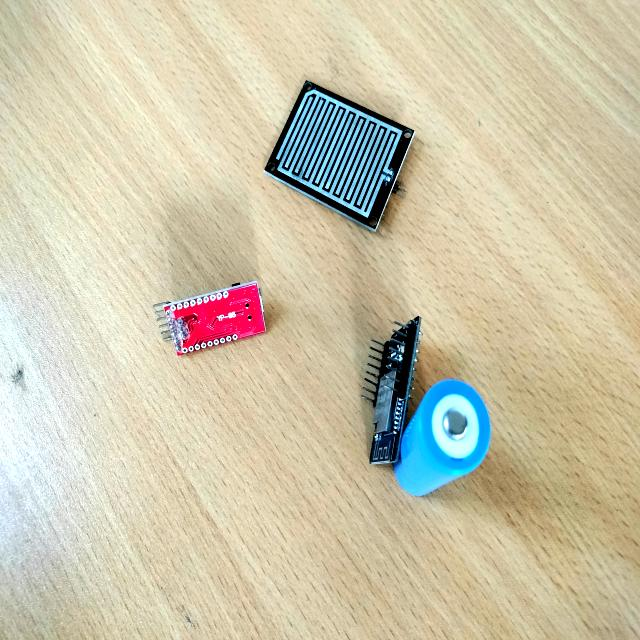3-3-Volt-Battery: (395, 369, 494, 521)
ESP32-CAM: (349, 286, 428, 483)
FT-232-USB-Serial-Module: (138, 264, 280, 375)
Raindrops-Module: (254, 65, 422, 248)
